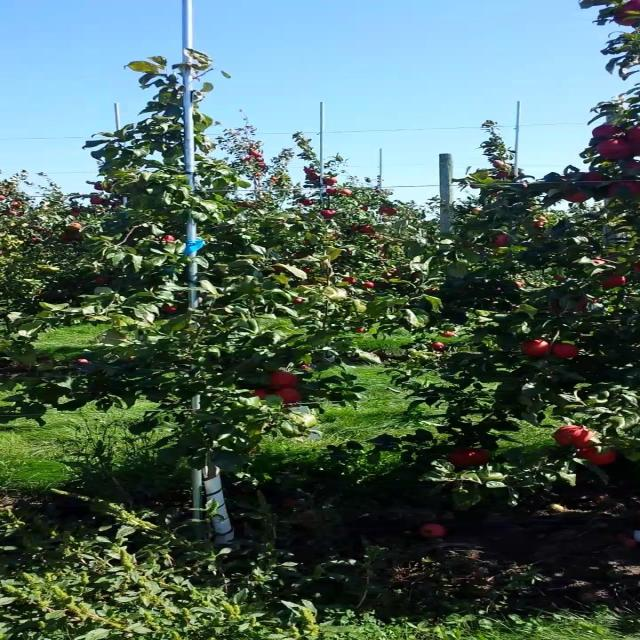apple: (575, 448, 619, 467), (447, 452, 491, 468), (596, 140, 629, 160), (554, 428, 588, 447), (618, 4, 639, 28), (269, 372, 299, 388), (525, 340, 551, 357), (554, 344, 581, 360), (276, 388, 302, 404), (611, 184, 638, 197), (596, 124, 620, 138), (575, 432, 596, 448), (582, 172, 606, 184), (604, 276, 626, 288), (568, 192, 590, 204), (625, 128, 639, 146), (497, 236, 512, 248), (625, 160, 639, 172), (255, 388, 270, 398), (582, 300, 597, 308), (163, 236, 178, 243), (163, 308, 178, 312), (99, 280, 108, 284)
